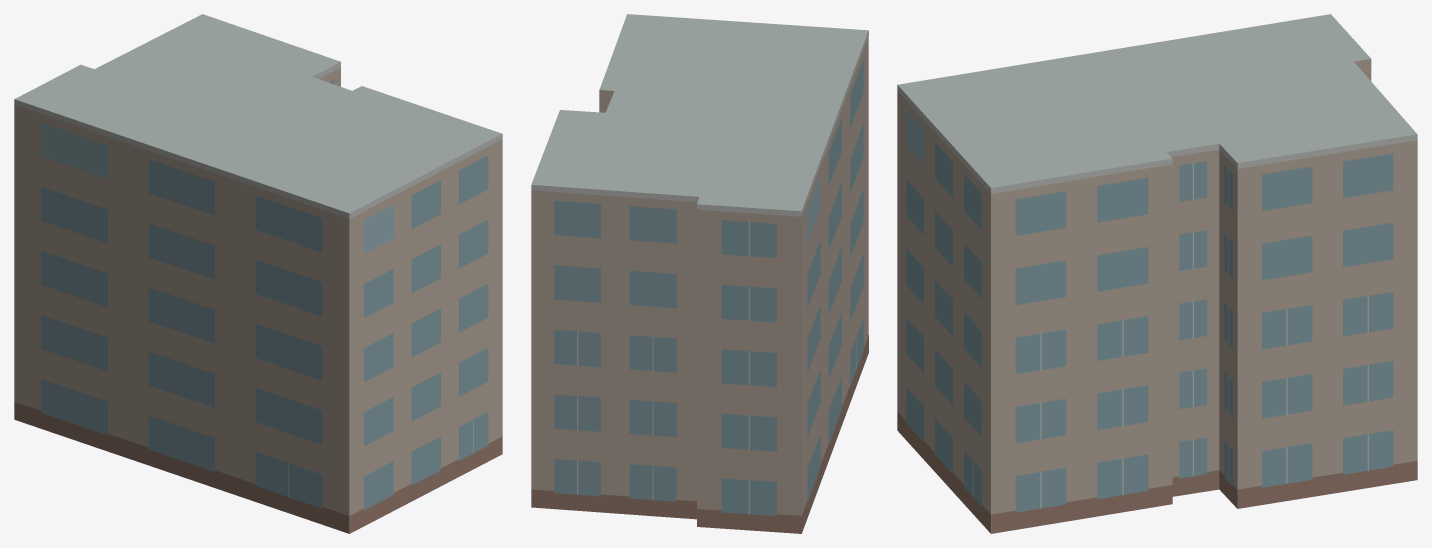
The model's file is survey-upis-32841708.glb.
3 views of the same model, side by side, from view 1: azimuth 30°, elevation 25°; view 2: azimuth 150°, elevation 25°; view 3: azimuth 270°, elevation 25° (orthographic). The views are drawn at different scales.
Parts seen in each view (by area): view 1: survey-upis-32841708.tmp; view 2: survey-upis-32841708.tmp; view 3: survey-upis-32841708.tmp.
Boxes of the visible parts, left/top/right/bottom form: survey-upis-32841708.tmp: left=14, top=14, right=502, bottom=533; survey-upis-32841708.tmp: left=531, top=14, right=868, bottom=533; survey-upis-32841708.tmp: left=897, top=14, right=1417, bottom=533.
Bounding box in the file's own units: 15.35 × 14.2 × 19.37.
